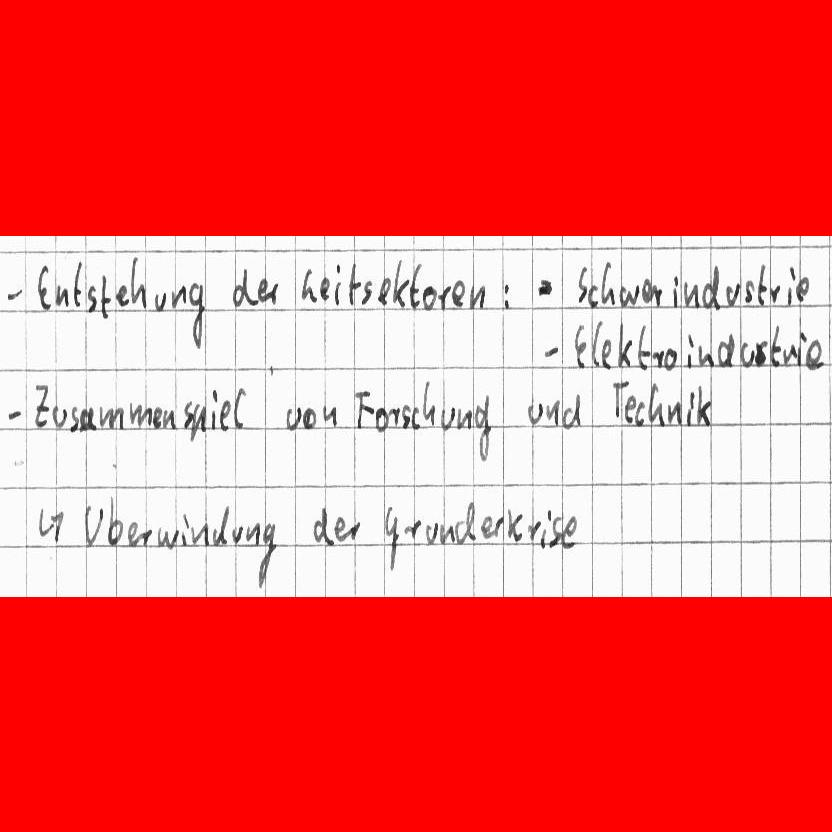Char: (255, 520, 276, 590), (384, 503, 400, 573), (190, 279, 206, 347), (475, 393, 491, 460), (454, 500, 477, 546), (36, 506, 63, 542), (129, 255, 147, 309), (231, 265, 252, 307), (82, 503, 102, 546), (392, 259, 410, 306), (105, 497, 122, 546), (34, 262, 51, 311), (312, 504, 332, 545), (184, 400, 204, 441), (31, 384, 48, 430), (128, 400, 154, 430), (609, 378, 628, 418), (420, 380, 436, 427), (704, 265, 721, 309), (353, 391, 372, 429), (232, 386, 248, 430), (99, 403, 125, 430), (600, 261, 616, 304), (562, 393, 581, 429), (696, 383, 711, 428), (408, 262, 422, 310), (805, 338, 825, 371), (716, 331, 734, 367), (636, 325, 651, 368), (256, 279, 279, 307), (770, 321, 784, 366), (572, 324, 586, 368), (650, 384, 665, 425), (214, 503, 229, 544), (562, 515, 579, 551), (573, 265, 588, 305), (301, 265, 317, 302), (155, 526, 180, 549), (527, 400, 548, 427), (335, 519, 358, 543), (618, 283, 640, 307), (508, 509, 524, 542), (191, 521, 211, 547), (346, 264, 359, 304), (100, 273, 111, 319), (72, 262, 83, 308), (589, 322, 600, 368), (539, 508, 551, 550), (756, 262, 767, 307), (78, 406, 97, 432), (172, 282, 190, 309), (468, 283, 486, 310), (684, 282, 701, 310), (332, 262, 343, 305), (785, 264, 796, 305), (115, 282, 131, 310), (450, 280, 465, 309), (126, 522, 144, 546), (631, 399, 647, 426), (549, 515, 562, 548), (208, 389, 218, 431), (623, 395, 637, 425), (685, 332, 697, 367), (619, 338, 633, 368), (667, 400, 683, 426), (359, 280, 375, 306), (284, 405, 302, 428), (405, 519, 422, 543), (602, 339, 616, 368), (376, 278, 391, 305), (739, 341, 754, 368), (500, 280, 513, 311), (754, 339, 768, 367), (437, 284, 452, 310), (245, 521, 260, 547), (51, 405, 67, 429), (542, 340, 561, 360), (685, 389, 695, 427), (725, 283, 740, 308), (422, 285, 437, 310), (441, 406, 457, 429), (56, 283, 70, 309), (536, 277, 554, 297), (180, 511, 190, 547), (162, 408, 178, 430), (324, 406, 340, 428), (152, 289, 168, 311), (439, 522, 455, 544), (548, 399, 561, 426), (796, 331, 806, 366), (4, 285, 22, 304), (480, 514, 493, 540), (375, 407, 389, 431), (744, 278, 756, 306), (640, 277, 652, 305), (425, 521, 439, 545), (398, 405, 412, 429), (302, 407, 317, 429), (671, 275, 681, 308), (663, 347, 677, 370), (796, 278, 810, 301), (651, 347, 665, 370), (87, 284, 98, 313), (220, 404, 232, 430), (460, 408, 474, 430), (771, 281, 783, 306), (699, 347, 714, 367), (783, 343, 796, 366), (231, 523, 244, 546), (5, 408, 22, 425), (587, 283, 599, 307), (492, 514, 504, 538), (528, 520, 541, 542), (138, 527, 153, 546), (388, 405, 400, 428), (652, 284, 663, 307), (70, 405, 79, 433), (320, 276, 330, 301), (152, 405, 162, 430), (411, 404, 420, 431)
